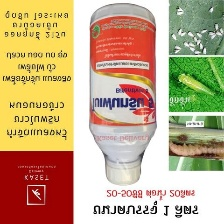insecticide: (86, 1, 157, 189)
